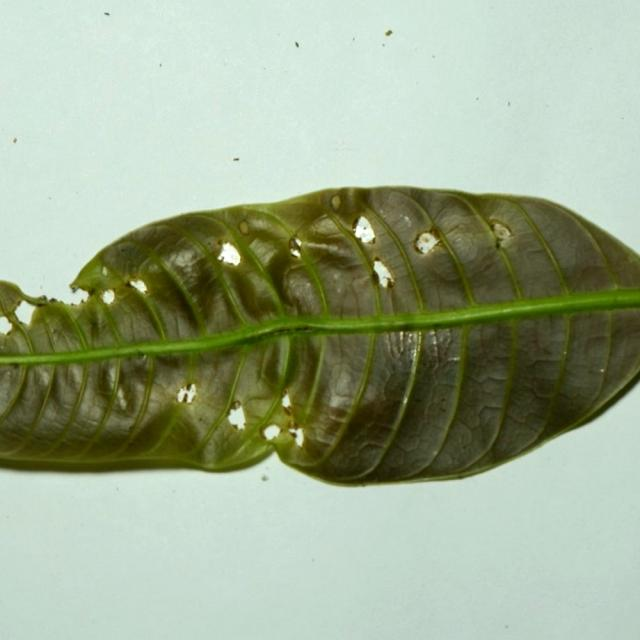Anthracnose: (279, 398, 303, 443), (218, 239, 250, 272), (488, 219, 515, 248), (413, 229, 442, 255), (372, 260, 395, 290), (352, 217, 376, 245), (227, 403, 247, 432), (176, 383, 198, 404), (14, 302, 33, 325), (261, 423, 282, 442), (128, 278, 149, 296), (288, 237, 303, 258), (100, 289, 116, 305), (237, 220, 251, 236), (281, 393, 293, 411)
Mango: (0, 188, 639, 490)
